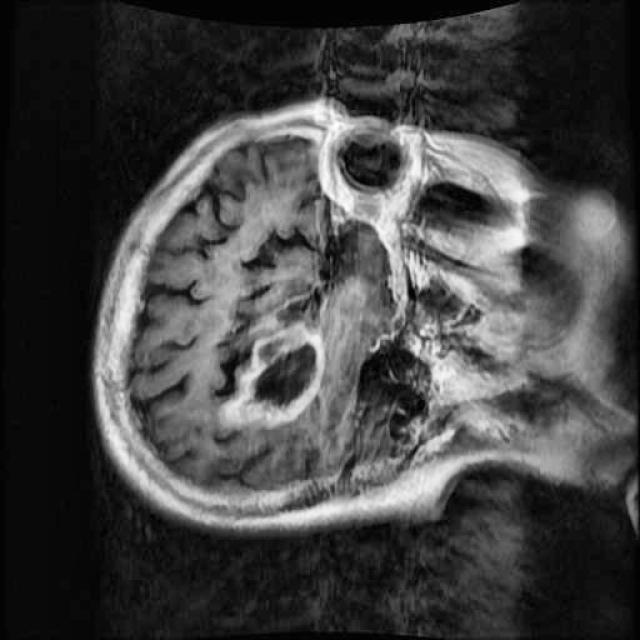Tumor: (205, 305, 344, 450)
